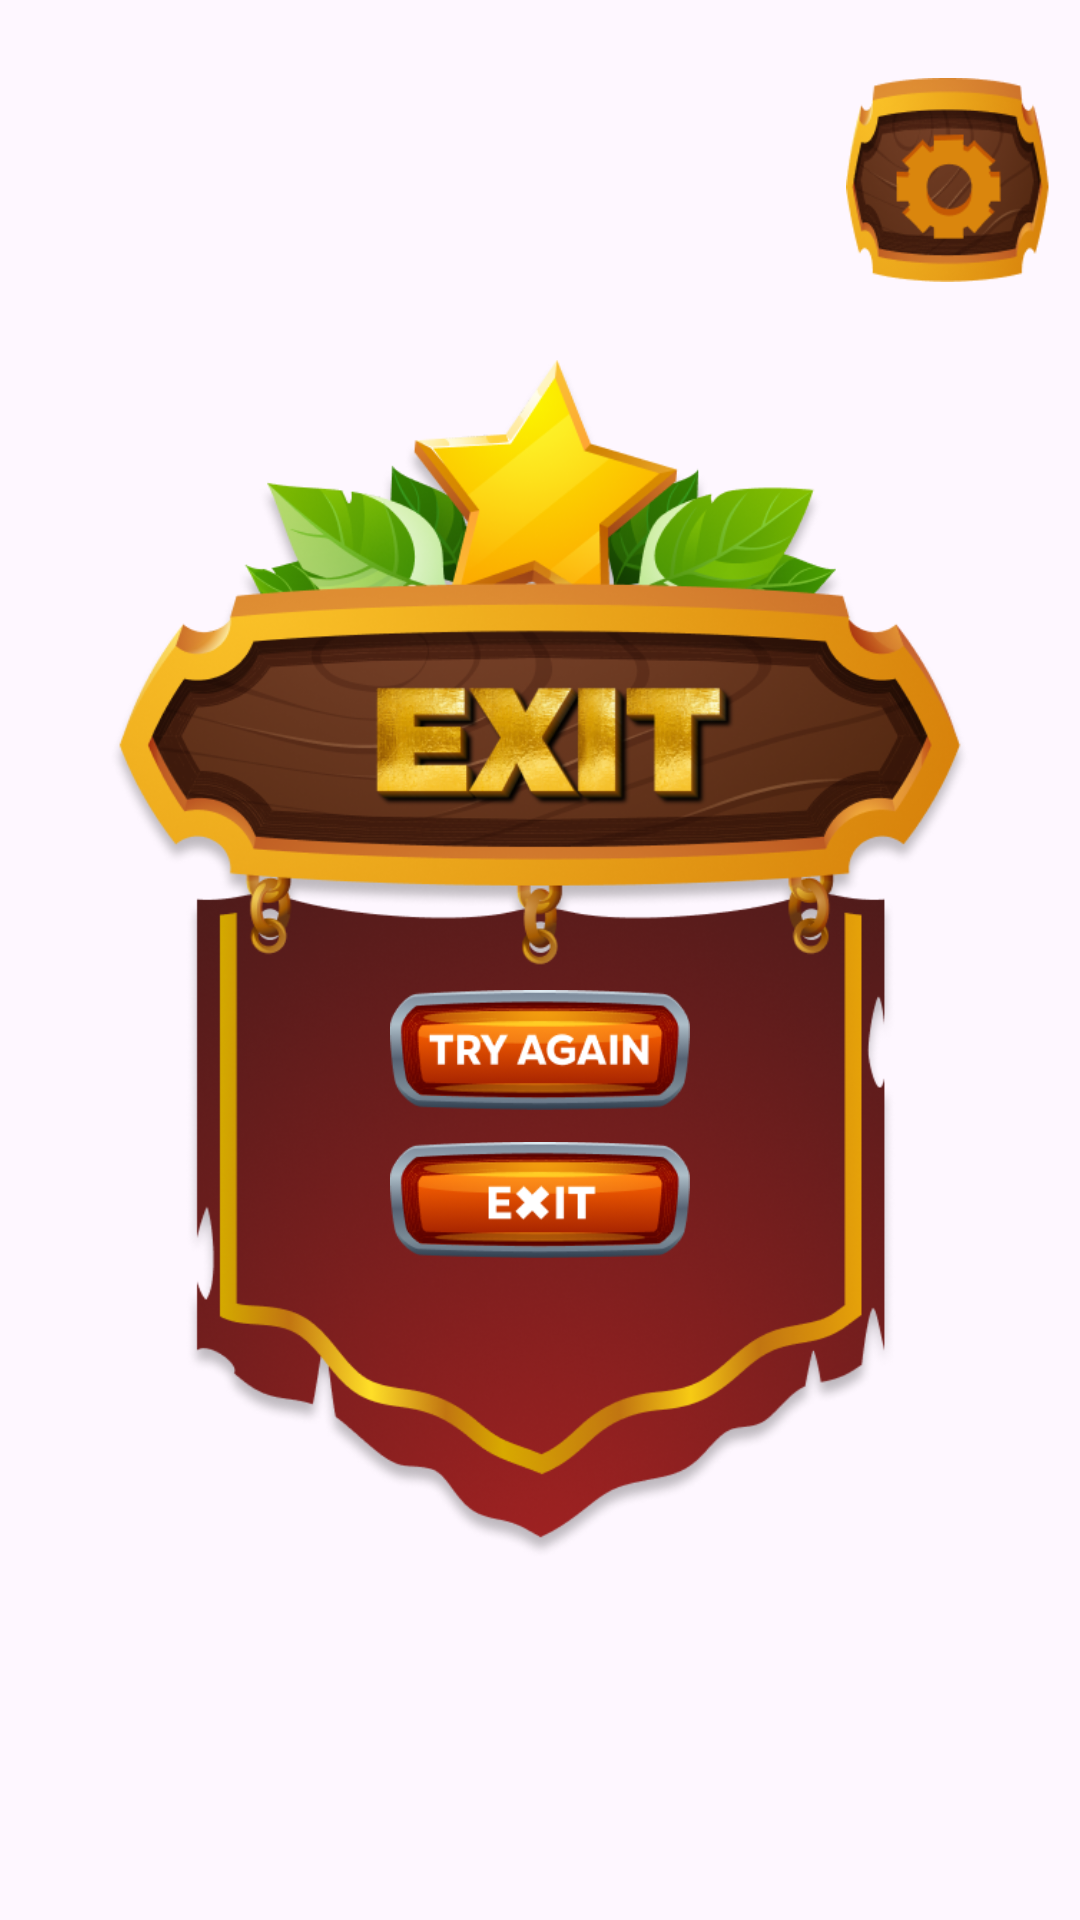

Icons on this 1080x1920 Android screen, each with its box as (x1, y1, x2, y2):
settings: (846, 78, 1049, 282)
